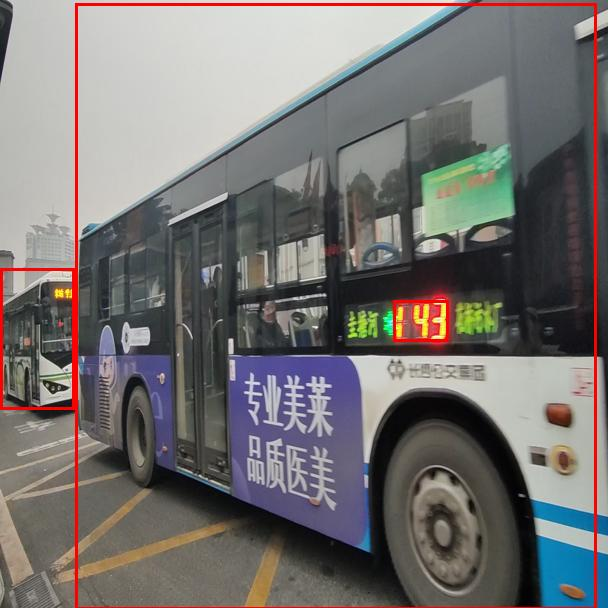bus: (75, 3, 596, 608), (0, 268, 74, 409)
screen: (393, 300, 448, 341)
